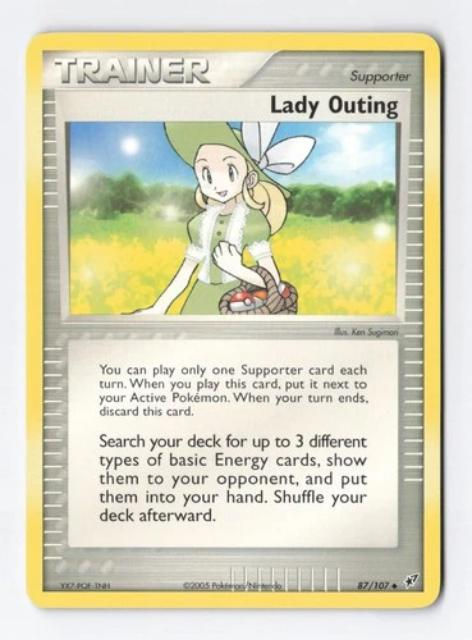Card: (19, 28, 448, 615)
Name: (262, 90, 407, 124)
